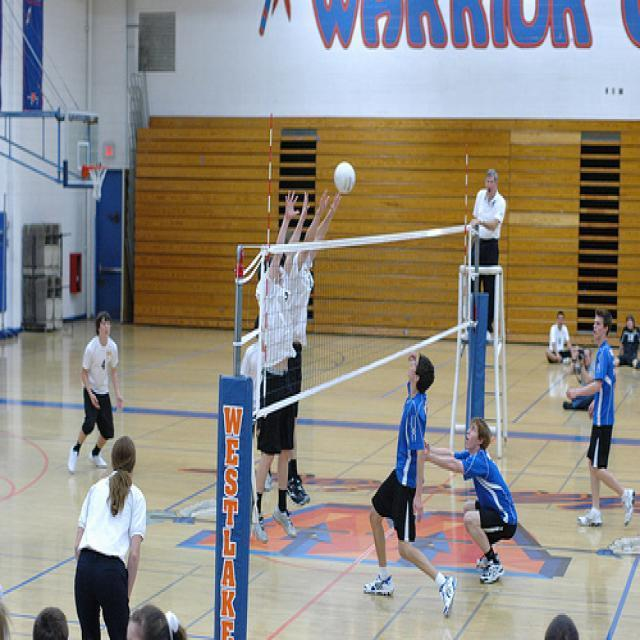volleyball: (334, 161, 358, 192)
